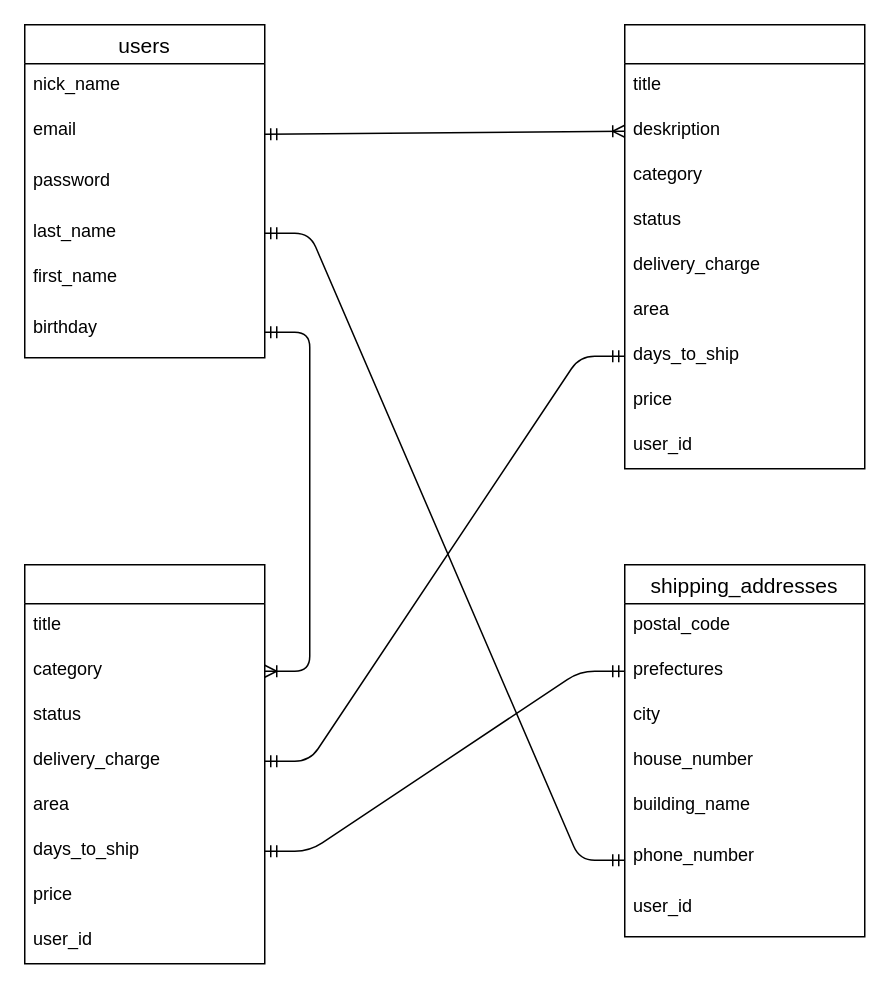
Some shapes in this 890 by 989 pixel diagram are drawn without their labels. The box of each missing label's shape, as (x1, y1, x2, y2) in pixels:
items: (623, 23, 865, 469)
purchases: (23, 563, 265, 964)
